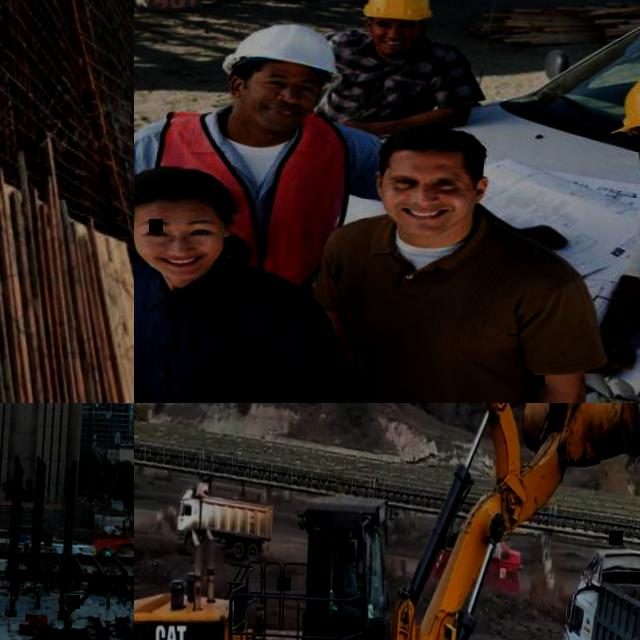Hardhat: (222, 17, 348, 92), (602, 63, 640, 140), (359, 0, 441, 22), (108, 591, 111, 593)
NO-Hardhat: (367, 125, 489, 165), (134, 166, 233, 212), (347, 541, 356, 551)
NO-Mask: (229, 93, 309, 139), (142, 241, 220, 285), (385, 196, 466, 238), (365, 32, 422, 58)
NO-Safety Vest: (316, 226, 555, 403), (134, 267, 312, 403), (323, 32, 448, 137), (343, 563, 360, 599)
Person: (291, 120, 601, 403), (134, 9, 394, 303), (134, 161, 368, 403), (314, 0, 489, 140), (574, 65, 640, 403), (341, 540, 366, 601), (34, 585, 43, 611), (107, 591, 112, 610)
Safety Vest: (141, 108, 351, 286), (37, 588, 42, 597), (108, 595, 111, 602)
vehicle: (305, 0, 640, 403), (134, 403, 640, 640), (174, 474, 279, 572), (433, 531, 524, 594)
